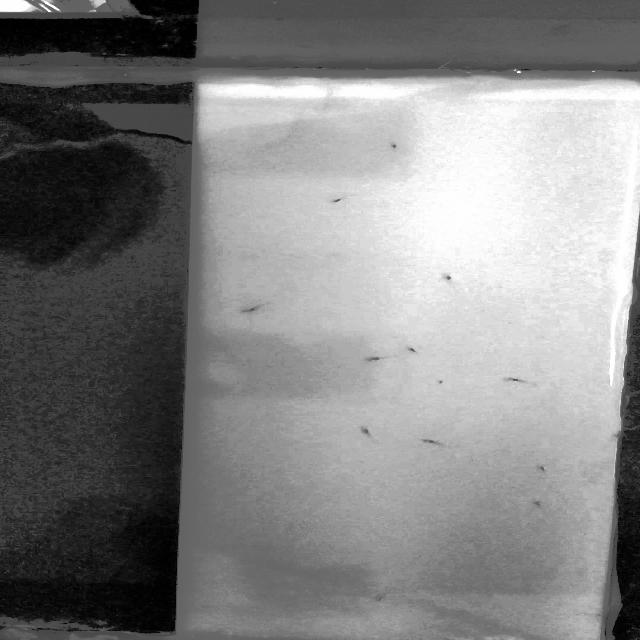shrimp: (229, 303, 275, 314), (526, 498, 558, 513), (358, 592, 391, 606), (498, 373, 530, 387), (399, 343, 429, 357), (419, 434, 445, 450), (379, 139, 406, 153), (354, 425, 378, 439), (528, 462, 557, 472), (326, 196, 352, 207), (436, 274, 461, 284), (362, 354, 392, 362), (426, 378, 448, 385)
